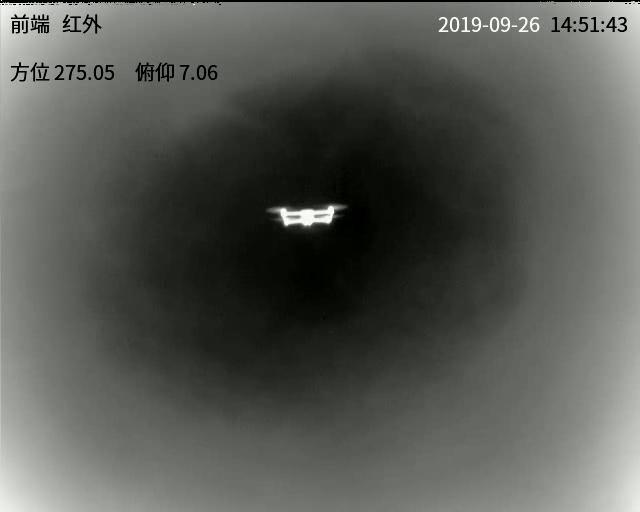DRONE: (273, 205, 339, 227)
